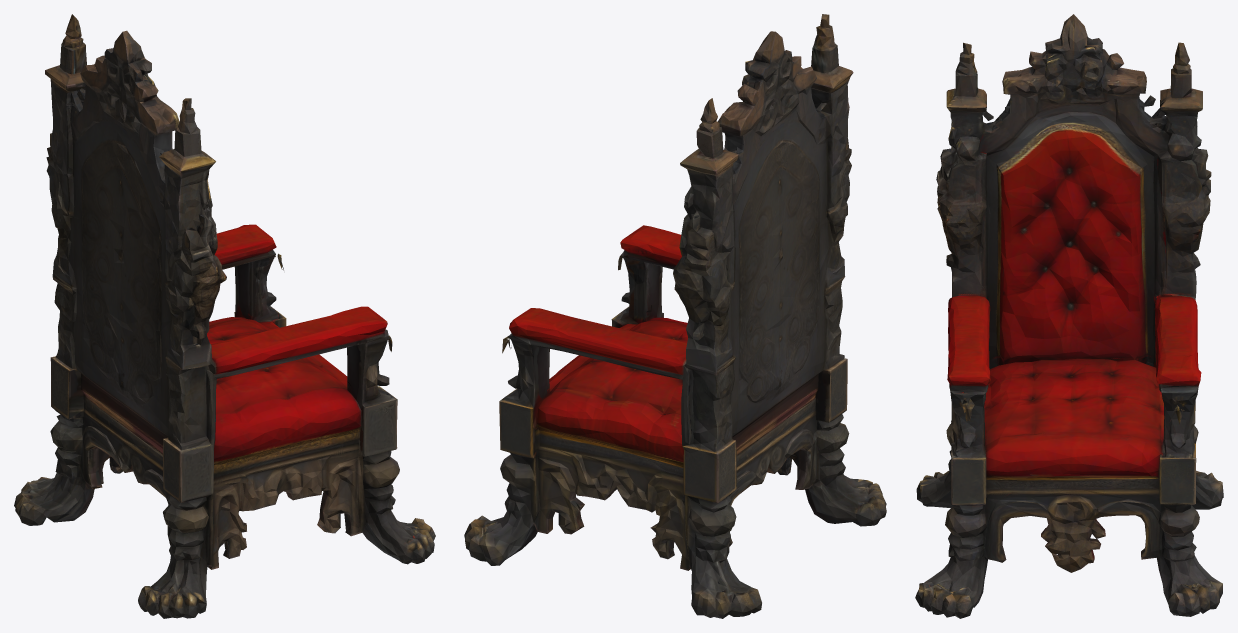
File: a_medival_throne_0508085435_texture.fbx
The picture shows the model from 3 angles, left to right: view 1: azimuth 30°, elevation 25°; view 2: azimuth 150°, elevation 25°; view 3: azimuth 270°, elevation 25°; orthographic projection. The views are drawn at different scales.
Visible parts, largest first — view 1: temp; view 2: temp; view 3: temp.
Part boxes in pixels (x1,y1,x2,y2): temp: (14,14,435,618); temp: (464,14,886,618); temp: (915,14,1223,618).
Size of the model in its own units: 116 by 200 by 113.
1 material, 1 textured.
